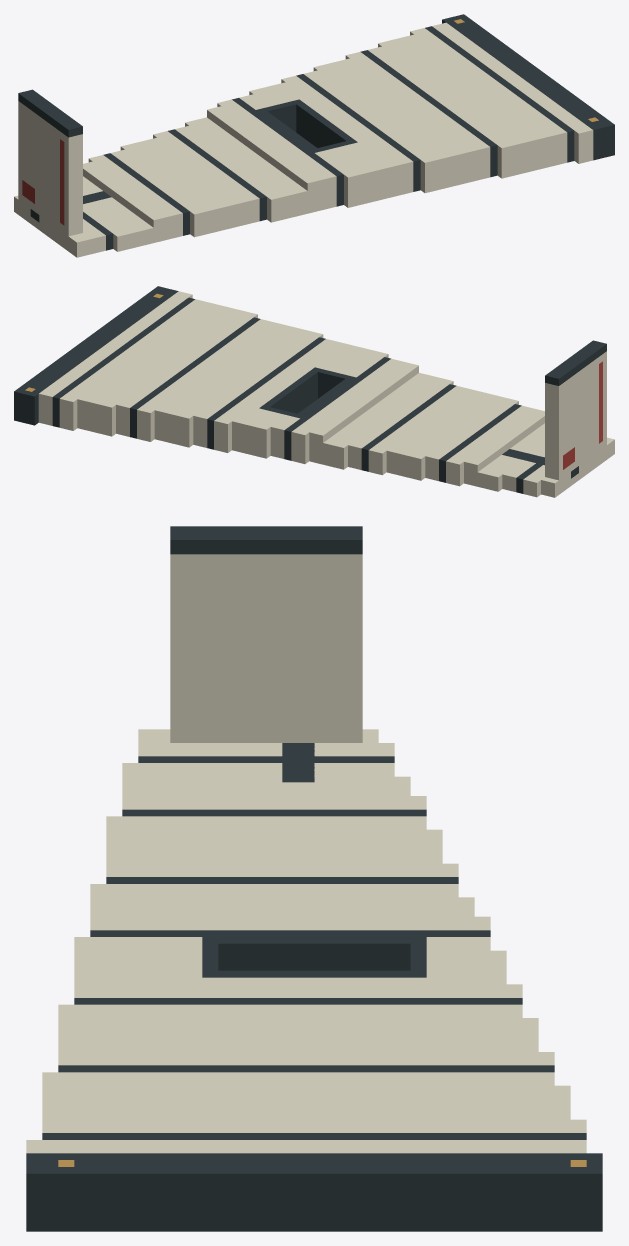
3 views of the same model, one above another, from view 1: azimuth 30°, elevation 25°; view 2: azimuth 150°, elevation 25°; view 3: azimuth 270°, elevation 25° (orthographic). The views are drawn at different scales.
Parts seen in each view (by area): view 1: 公共客机机翼与翼端组件; view 2: 公共客机机翼与翼端组件; view 3: 公共客机机翼与翼端组件.
Boxes of the visible parts, x1=… form: 公共客机机翼与翼端组件: x1=14, y1=14, x2=614, y2=257; 公共客机机翼与翼端组件: x1=14, y1=286, x2=614, y2=497; 公共客机机翼与翼端组件: x1=26, y1=526, x2=602, y2=1231.
Size of the model in its own units: 7 by 1.6 by 3.6.
5 materials, 5 textured.
